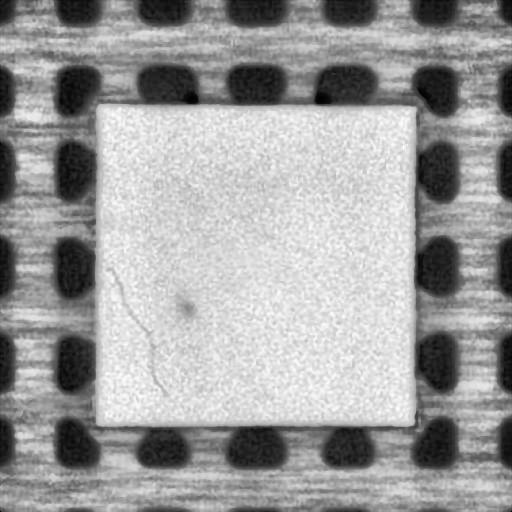DIE_CRACK: (103, 266, 167, 395)
